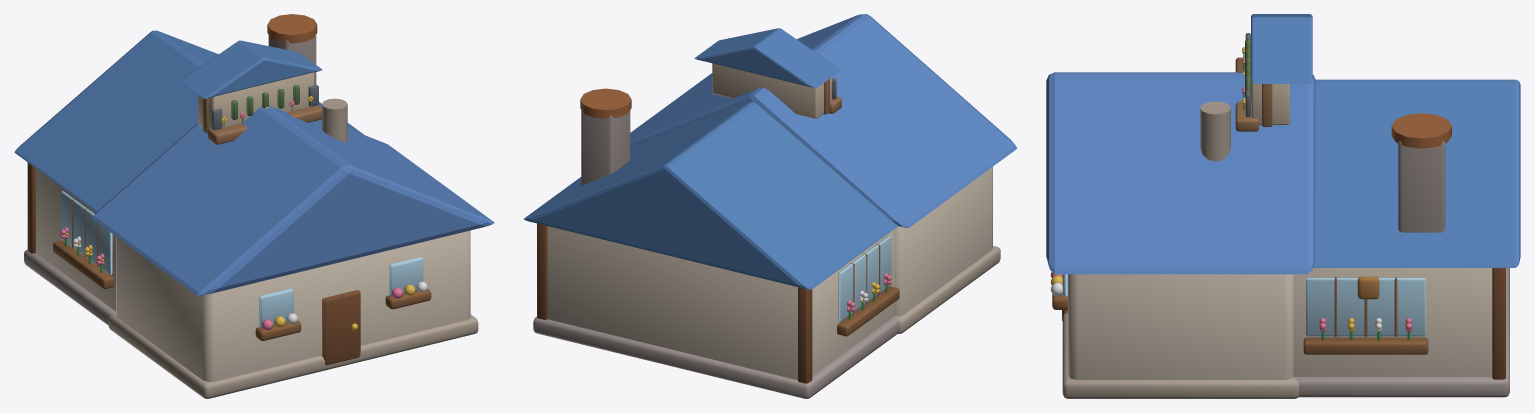
Rendered from kitchen2.glb.
3 views of the same model, side by side, from view 1: azimuth 30°, elevation 25°; view 2: azimuth 150°, elevation 25°; view 3: azimuth 270°, elevation 25° (orthographic). The views are drawn at different scales.
Visible parts, largest first — view 1: base, roof, walls, flower, herb; view 2: base, roof, walls; view 3: base, roof, walls, flower, frame.
Boxes of the visible parts, bbox=[...] form: base: bbox=[14, 14, 494, 398]; roof: bbox=[180, 40, 322, 98]; walls: bbox=[198, 72, 314, 129]; flower: bbox=[208, 96, 321, 144]; herb: bbox=[231, 85, 299, 119]; base: bbox=[524, 14, 1017, 398]; roof: bbox=[694, 28, 840, 88]; walls: bbox=[712, 63, 832, 118]; base: bbox=[1046, 72, 1520, 398]; roof: bbox=[1251, 14, 1312, 83]; walls: bbox=[1251, 81, 1289, 124]; flower: bbox=[1235, 47, 1258, 131]; frame: bbox=[1262, 84, 1272, 126].
Size of the model in its own units: 4.81 by 3.89 by 5.52.
